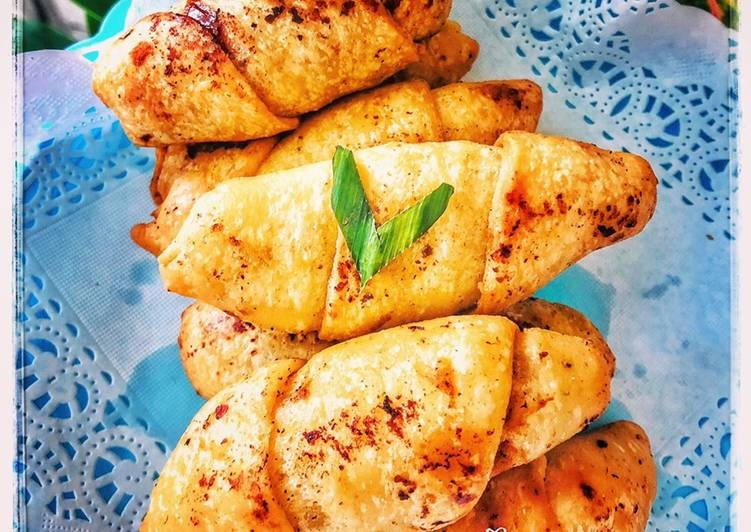pisang_molen: (160, 135, 658, 343)
